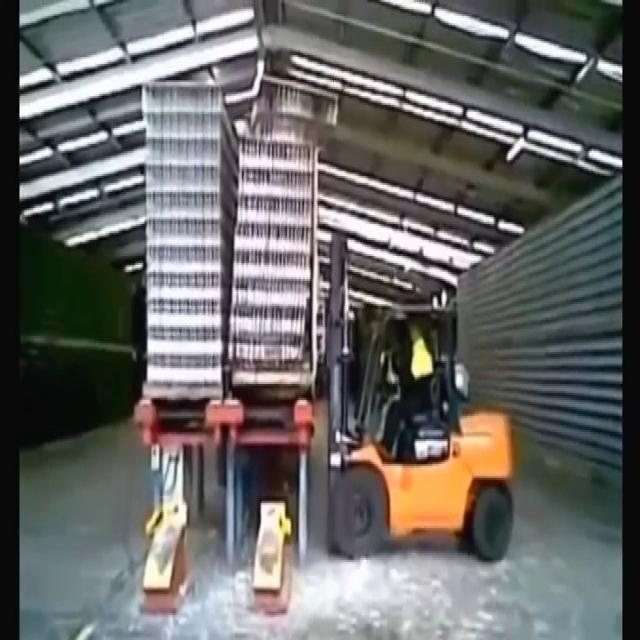forklift: (325, 224, 521, 567)
